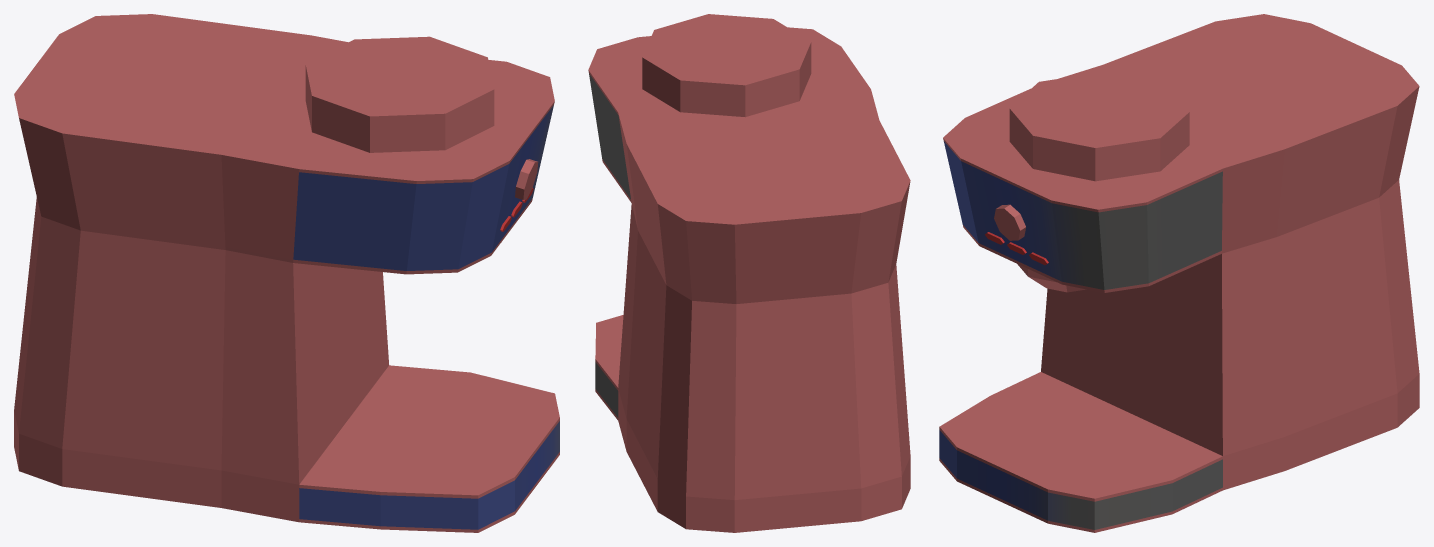
Rendered from Kitchen_CoffeeMachine.fbx.
The picture shows the model from 3 angles, left to right: view 1: azimuth 30°, elevation 25°; view 2: azimuth 150°, elevation 25°; view 3: azimuth 270°, elevation 25°; orthographic projection. The views are drawn at different scales.
Parts seen in each view (by area): view 1: Kitchen_CoffeeMachine; view 2: Kitchen_CoffeeMachine; view 3: Kitchen_CoffeeMachine.
Part boxes in pixels (x1,y1,x2,y2): Kitchen_CoffeeMachine: (14,14,559,532); Kitchen_CoffeeMachine: (588,14,910,532); Kitchen_CoffeeMachine: (939,14,1419,532).
Size of the model in its own units: 65.05 by 54.65 by 66.96.
